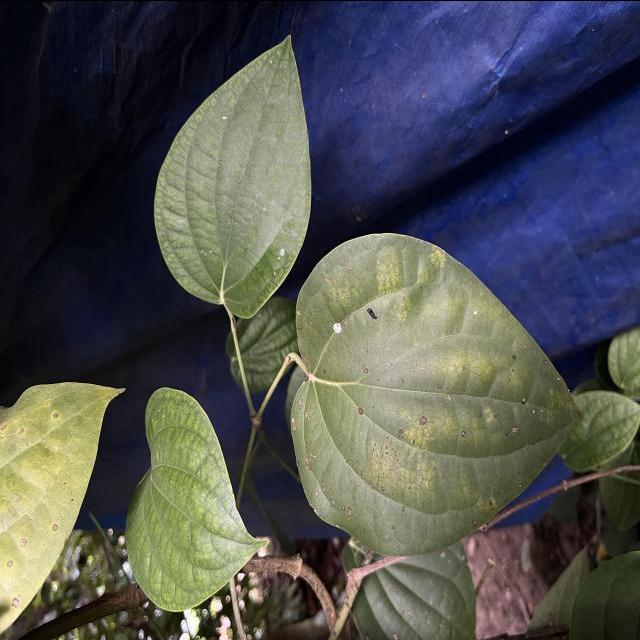Piper nigrum: (289, 227, 586, 558), (150, 30, 315, 322), (122, 382, 272, 612)
